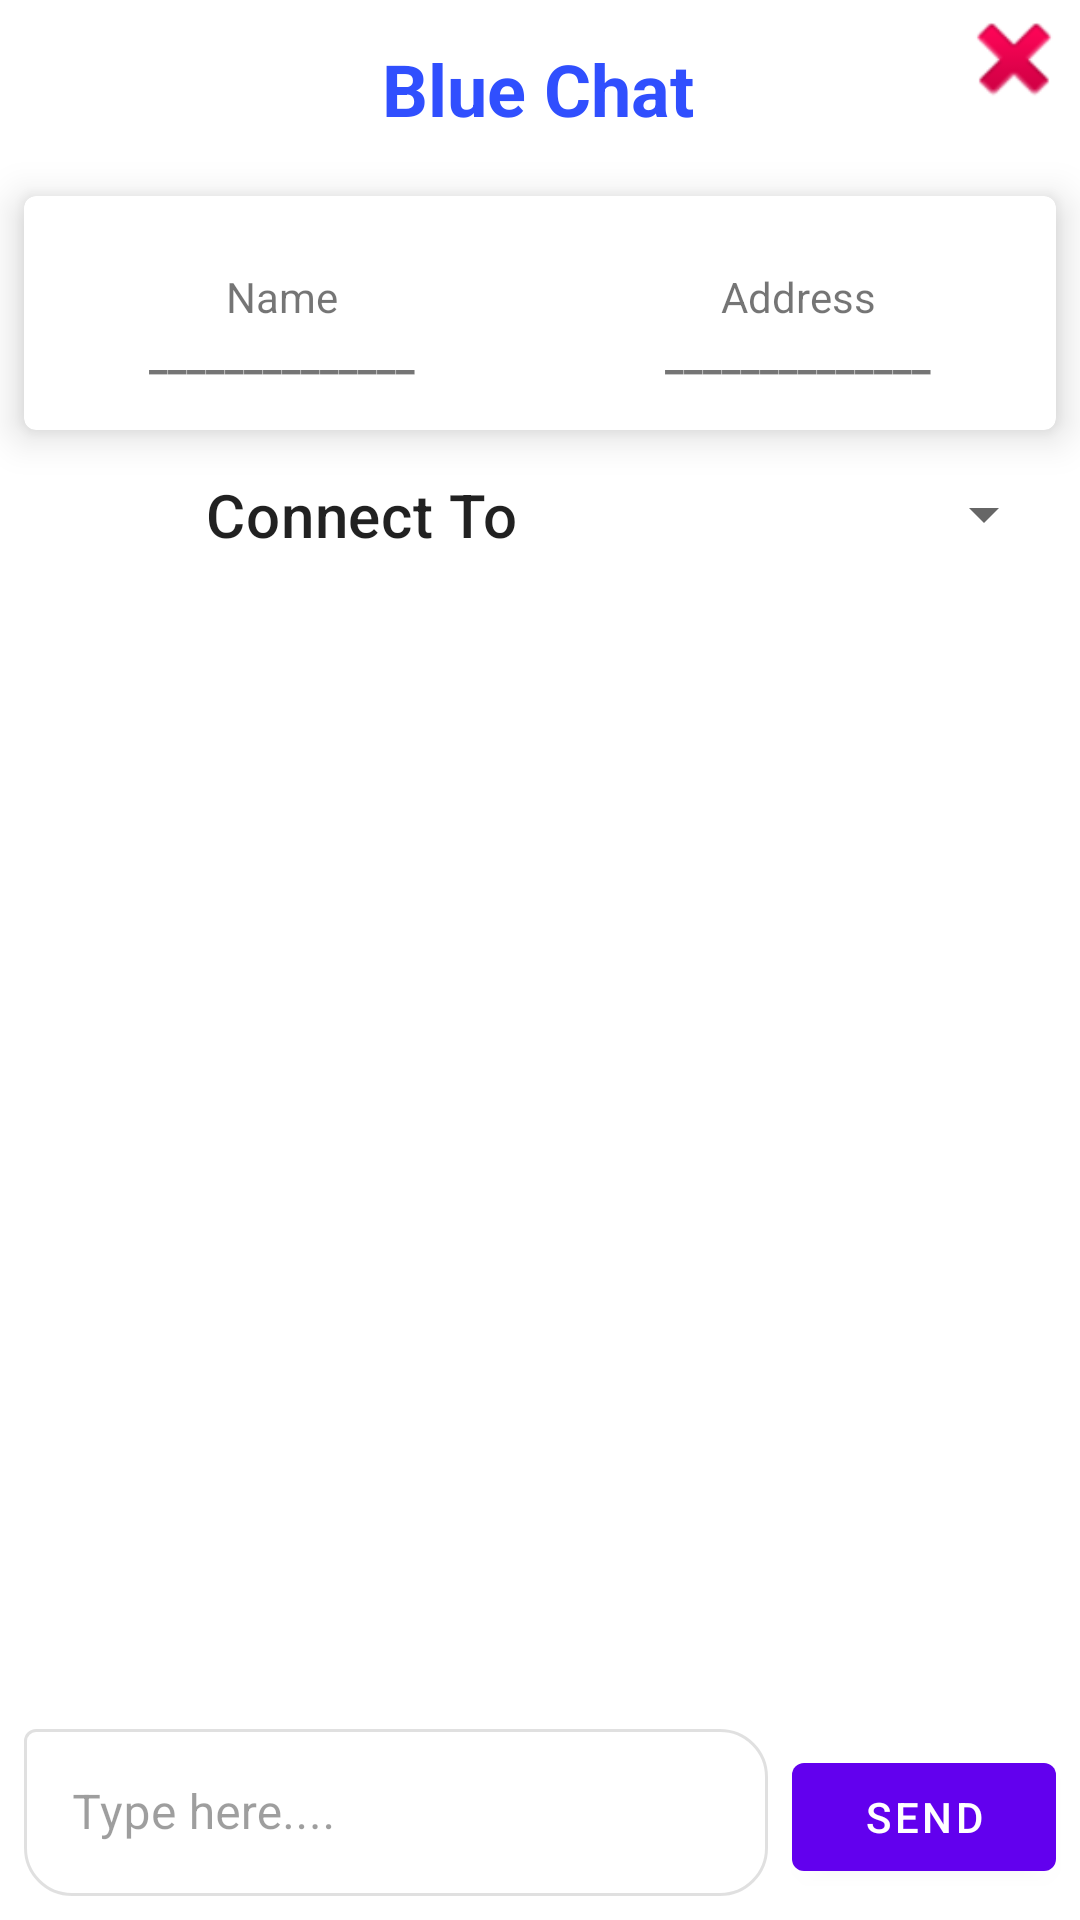

Screen size 1080px×1920px. Icon name, then its box in pixels as bbox(x1, y1, x2, y2):
delete: bbox(977, 23, 1051, 95)
